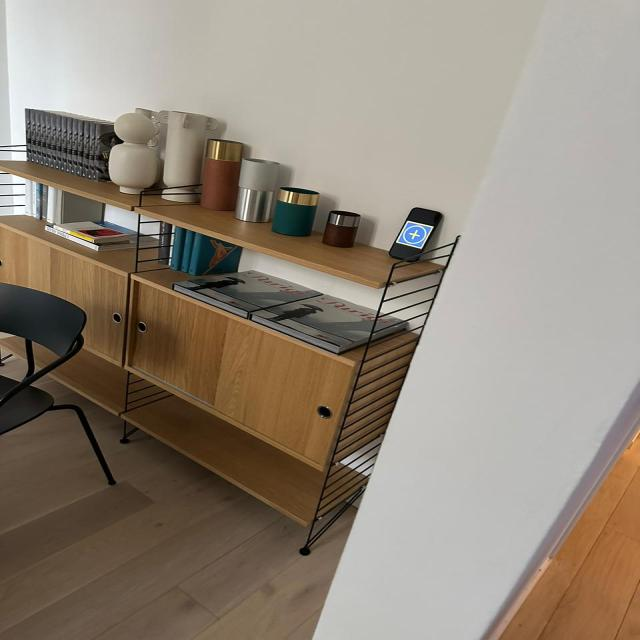Marker: (395, 218, 436, 252)
